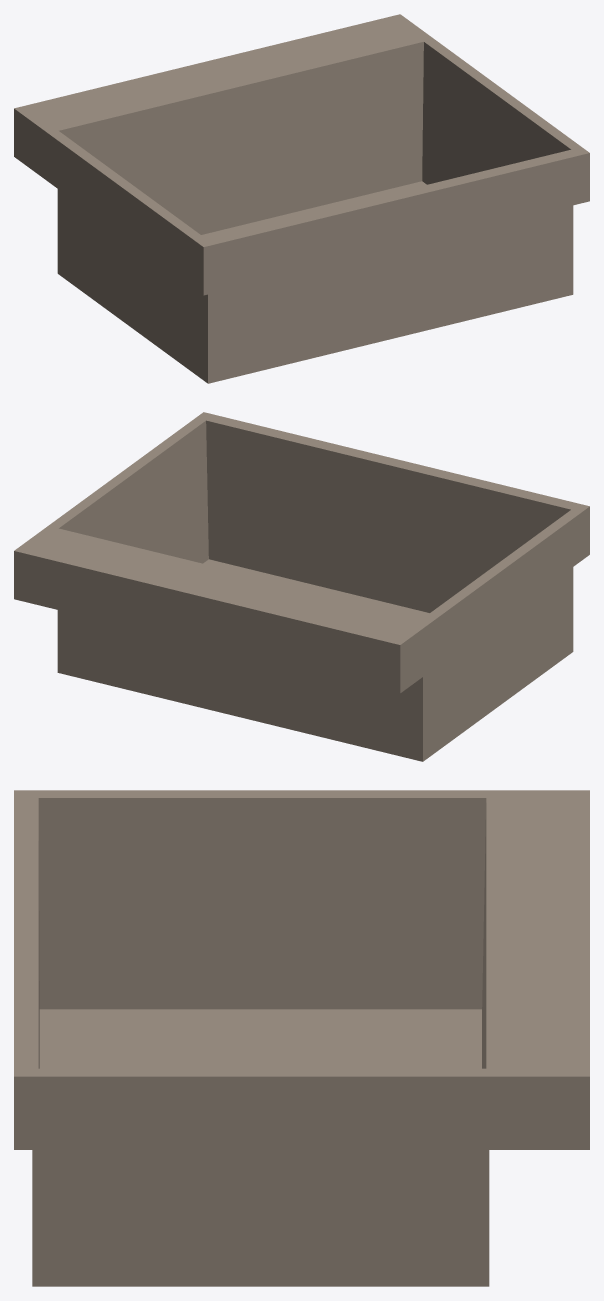
File: Sink1_C3.fbx
3 renders of one model, top to bottom at view 1: azimuth 30°, elevation 25°; view 2: azimuth 150°, elevation 25°; view 3: azimuth 270°, elevation 25°, orthographic. The views are drawn at different scales.
Parts seen in each view (by area): view 1: Sink1_C3; view 2: Sink1_C3; view 3: Sink1_C3.
Boxes of the visible parts, left/top/right/bottom form: Sink1_C3: left=14, top=14, right=589, bottom=383; Sink1_C3: left=14, top=412, right=589, bottom=761; Sink1_C3: left=14, top=790, right=589, bottom=1286.
Bounding box in the file's own units: 55 × 19.54 × 46.77.
